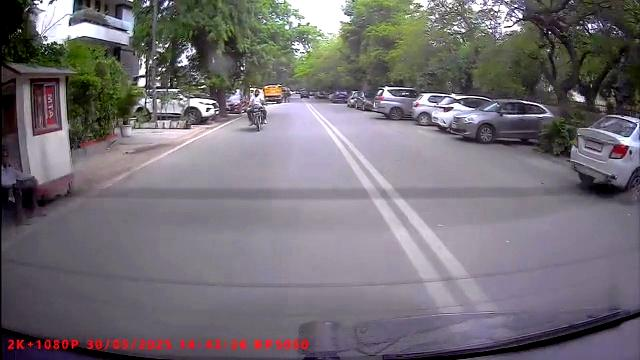motorcycle_without_helmet: (245, 88, 269, 133)
